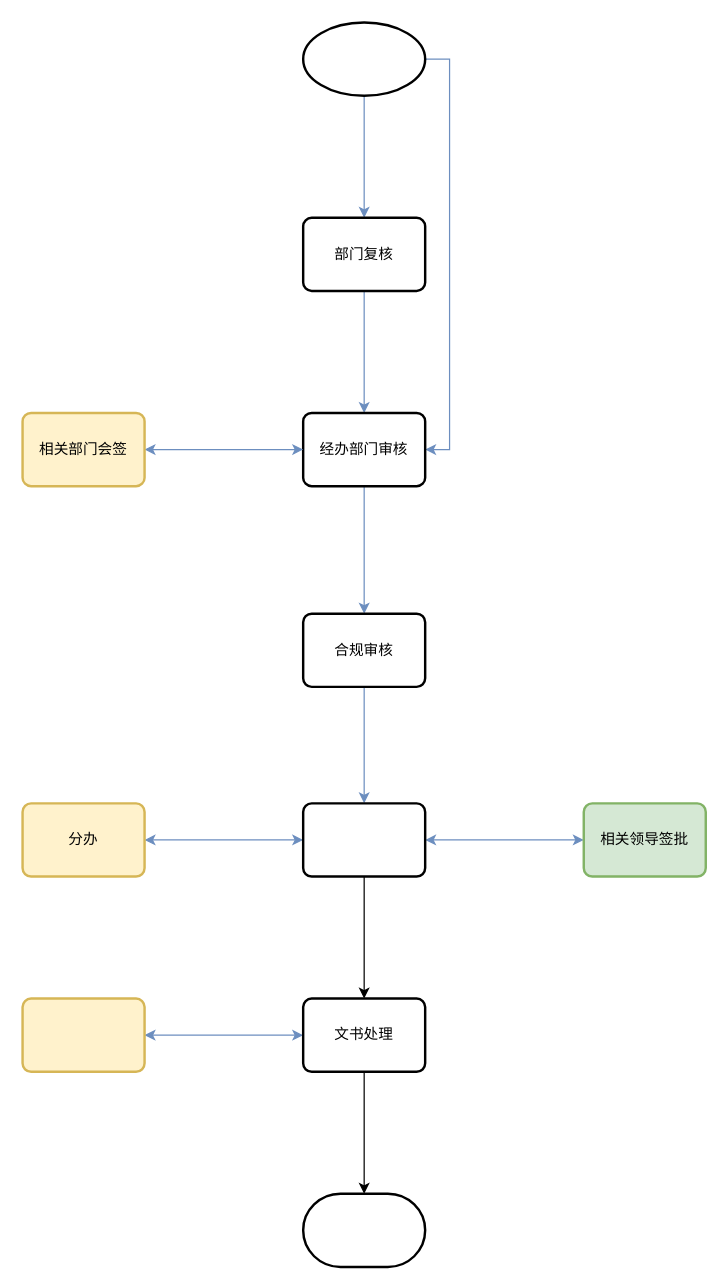
The diagram is 727 pixels wide and 1288 high, and some of its shapes have lost their labels. Here are the shapes that lost their labels. From the top down, the box of each, then its label:
(301, 21, 426, 96): 流程发起
(301, 802, 426, 877): 综合管理部核稿
(21, 997, 145, 1072): 经办部门校对
(301, 1192, 426, 1268): 流程结束
